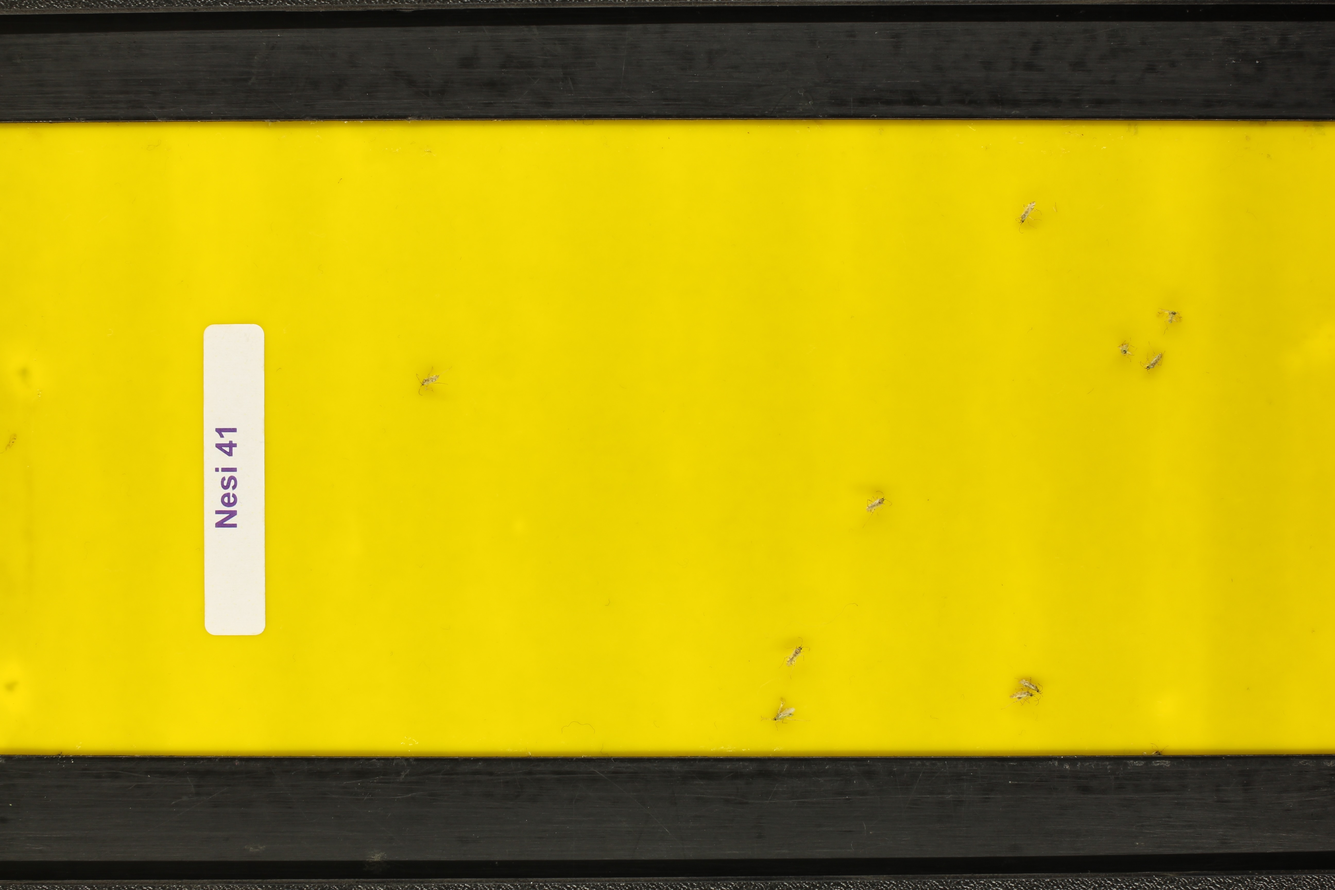NC: (1013, 198, 1044, 234), (414, 364, 446, 397), (1004, 689, 1047, 711), (782, 637, 812, 668), (1016, 668, 1050, 695), (773, 696, 797, 729), (864, 489, 890, 517), (1140, 346, 1165, 375), (1155, 306, 1185, 329), (1116, 339, 1136, 364)
